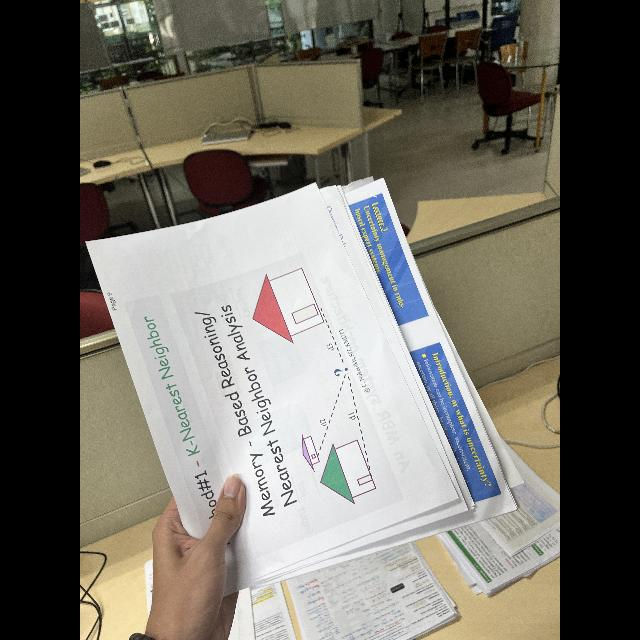reuseable_paper: (80, 160, 530, 600)
